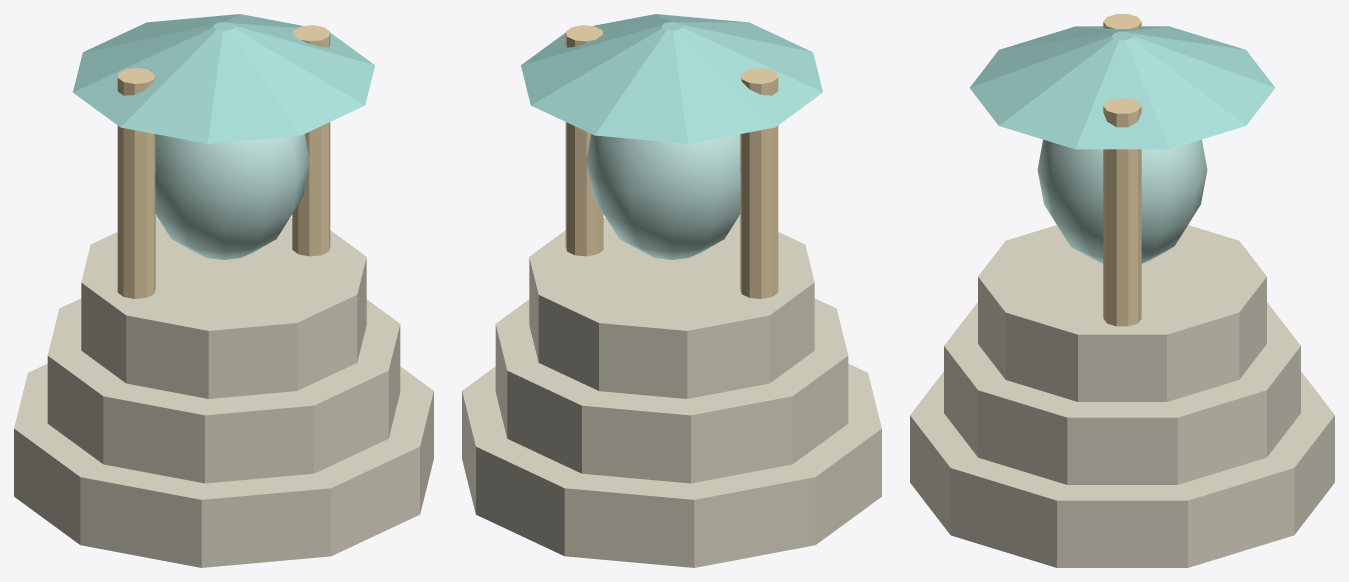
Rendered from beacon.glb.
The picture shows the model from 3 angles, left to right: view 1: azimuth 30°, elevation 25°; view 2: azimuth 150°, elevation 25°; view 3: azimuth 270°, elevation 25°; orthographic projection.
Visible parts, largest first — view 1: beacon_Warm_limestone, beacon_Enamel_jade, beacon_Visor_sea_glass, beacon_Diver_brass; view 2: beacon_Warm_limestone, beacon_Enamel_jade, beacon_Visor_sea_glass, beacon_Diver_brass; view 3: beacon_Warm_limestone, beacon_Enamel_jade, beacon_Visor_sea_glass, beacon_Diver_brass.
Part boxes in pixels (left/top/right/bottom): beacon_Warm_limestone: left=14, top=215, right=433, bottom=567; beacon_Enamel_jade: left=73, top=14, right=374, bottom=143; beacon_Visor_sea_glass: left=155, top=134, right=309, bottom=259; beacon_Diver_brass: left=117, top=25, right=330, bottom=298; beacon_Warm_limestone: left=462, top=215, right=881, bottom=567; beacon_Enamel_jade: left=521, top=14, right=822, bottom=143; beacon_Visor_sea_glass: left=586, top=134, right=740, bottom=259; beacon_Diver_brass: left=565, top=25, right=778, bottom=298; beacon_Warm_limestone: left=910, top=225, right=1334, bottom=567; beacon_Enamel_jade: left=970, top=26, right=1274, bottom=149; beacon_Visor_sea_glass: left=1037, top=139, right=1207, bottom=263; beacon_Diver_brass: left=1103, top=14, right=1141, bottom=326.
Bounding box in the file's own units: 1.9 × 2.32 × 2.
